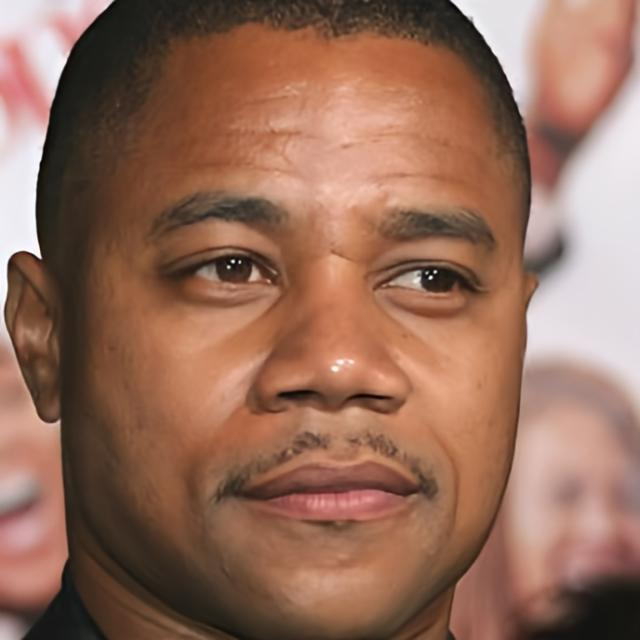neutral: (66, 16, 537, 640)
